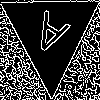A: (25, 9, 71, 66)
